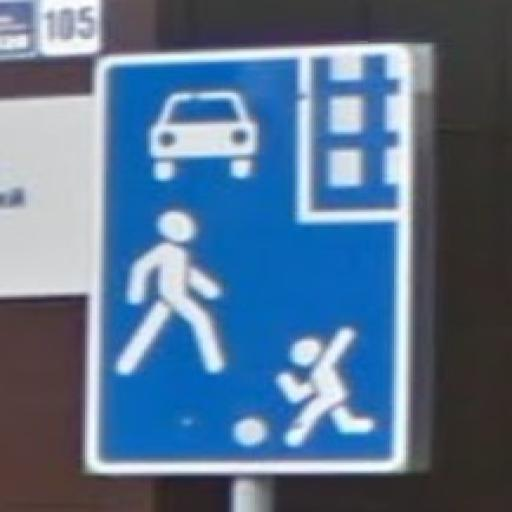traffic_sign: (86, 44, 421, 476)
